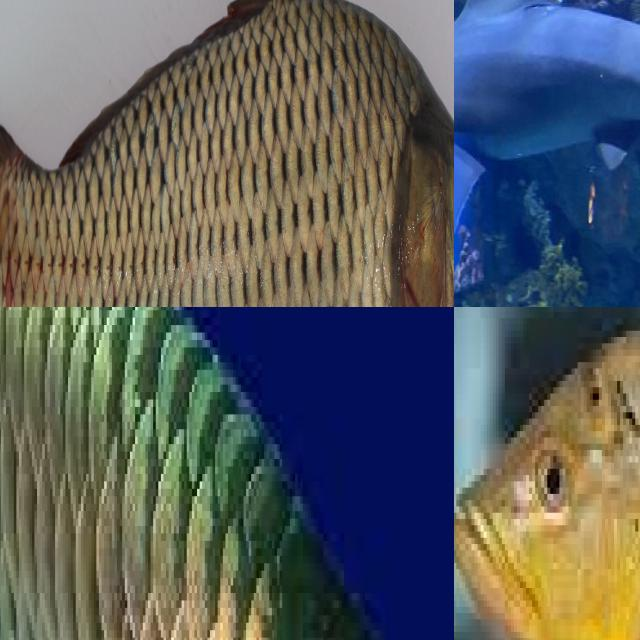fish: (0, 307, 454, 640), (0, 0, 454, 307), (454, 307, 640, 640)
